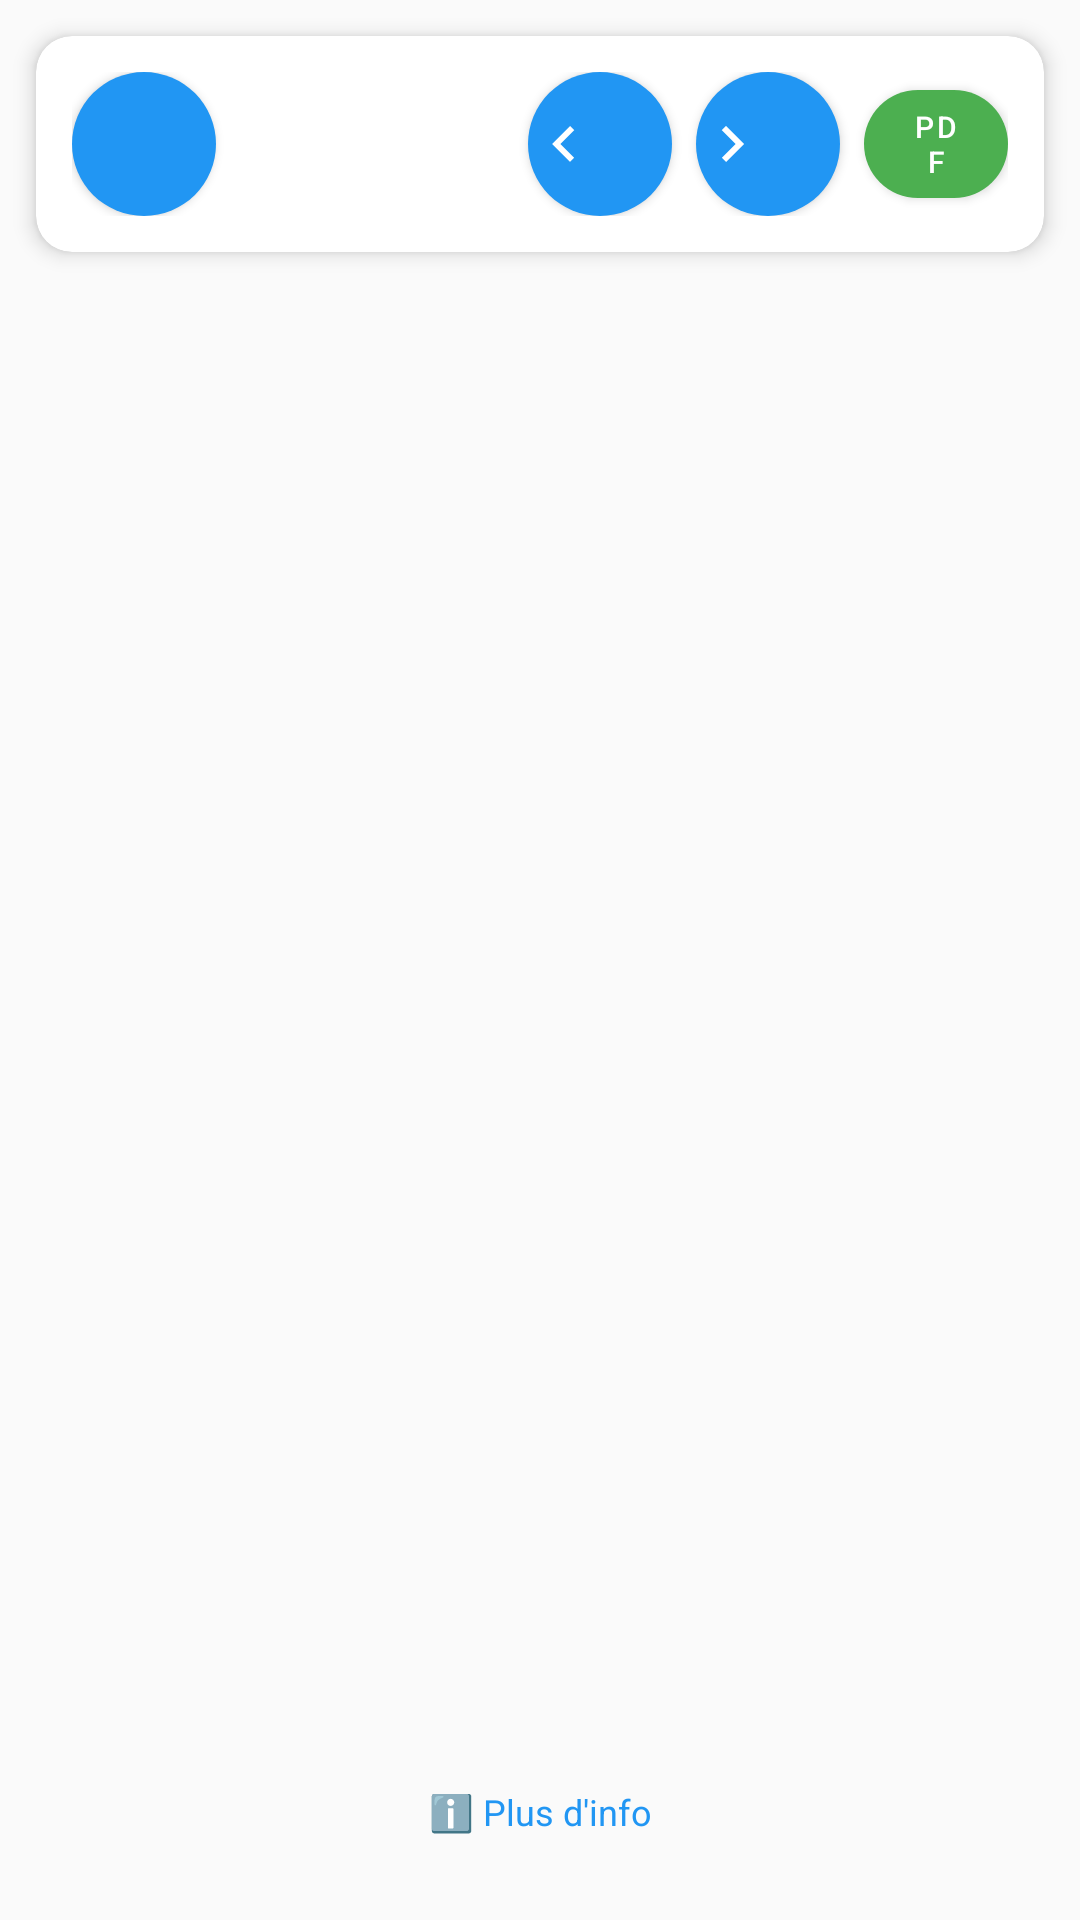

Where icons sit on this 1080 × 1920 app screen, as {"left": x1, "top": y1, "right": x2, "bottom": y2}:
Section precedente: {"left": 528, "top": 72, "right": 672, "bottom": 216}
Section suivante: {"left": 696, "top": 72, "right": 840, "bottom": 216}
